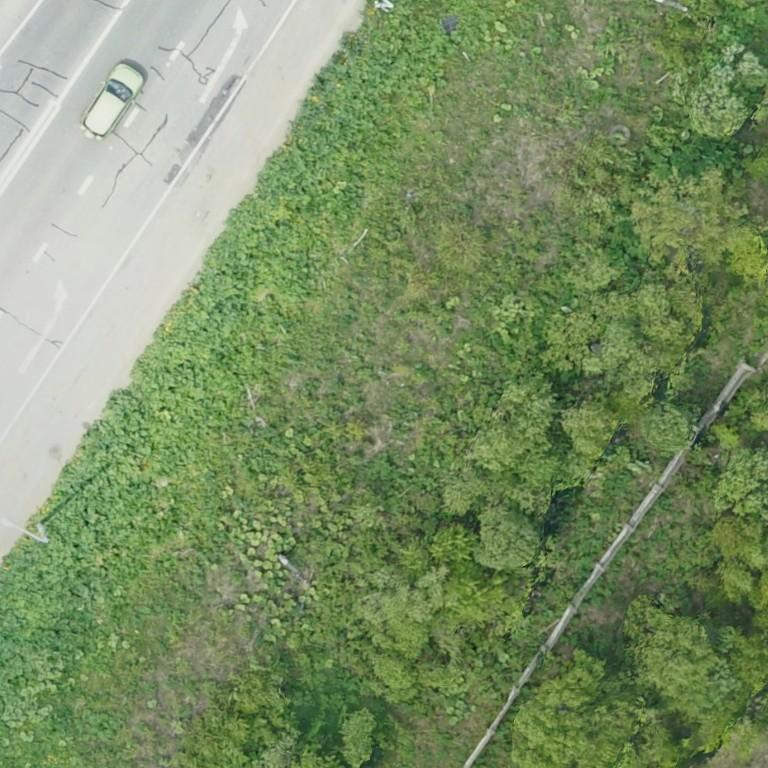hogweed: (0, 0, 503, 665)
